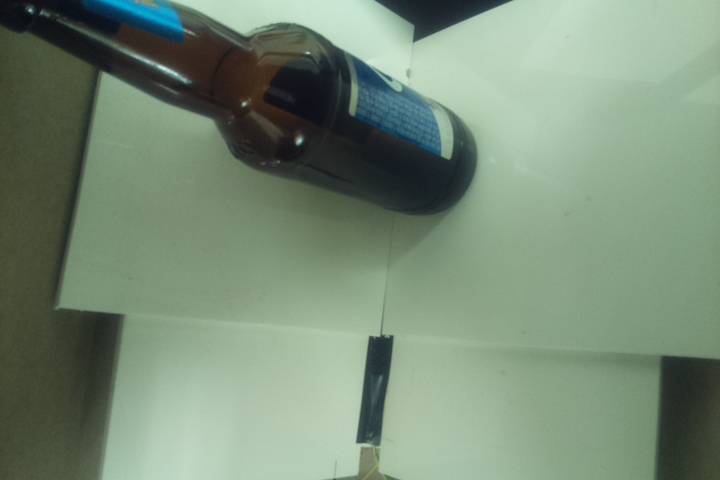makju: (1, 1, 480, 219)
